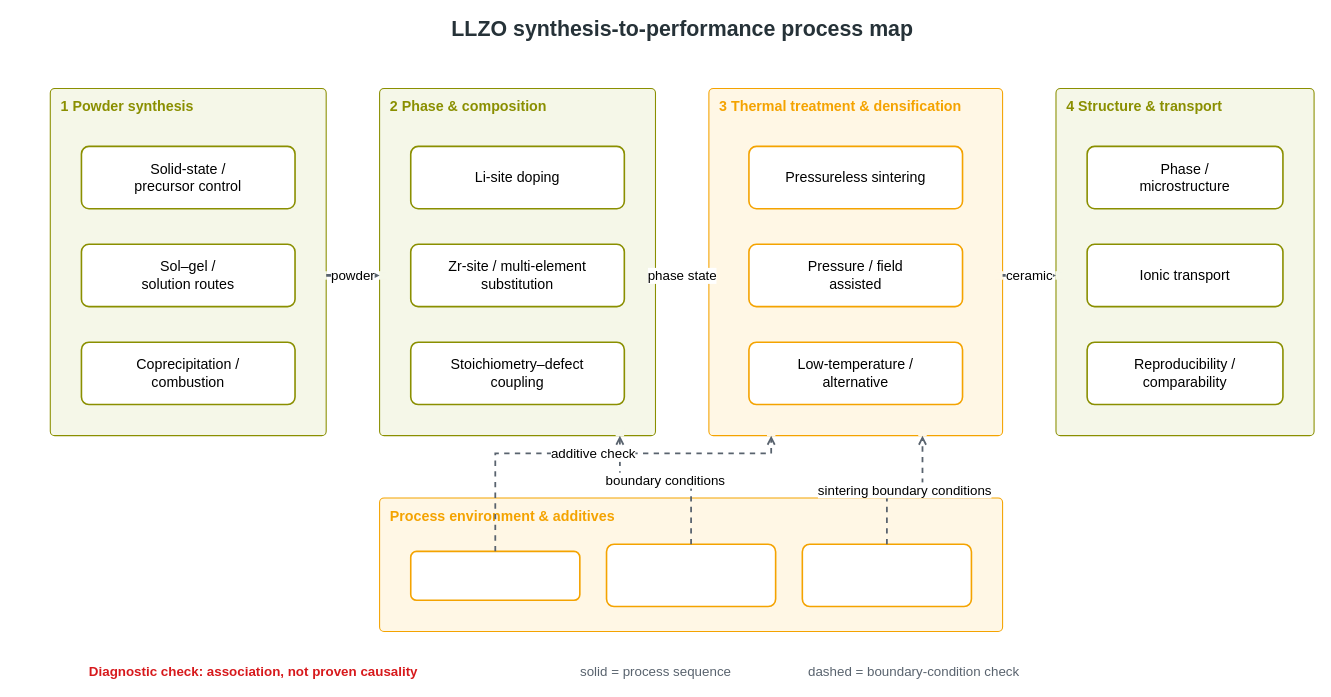
The diagram is 1331 pixels wide and 697 high, and some of its shapes have lost their labels. Here are the shapes that lost their labels. From the top down, the centre of each, then its label:
point 494,575: Sintering additives
point 690,575: Li loss / replenishment
point 886,575: Crucible / cover powder / exposure
